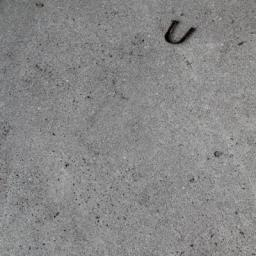FOD: (161, 18, 198, 47)
